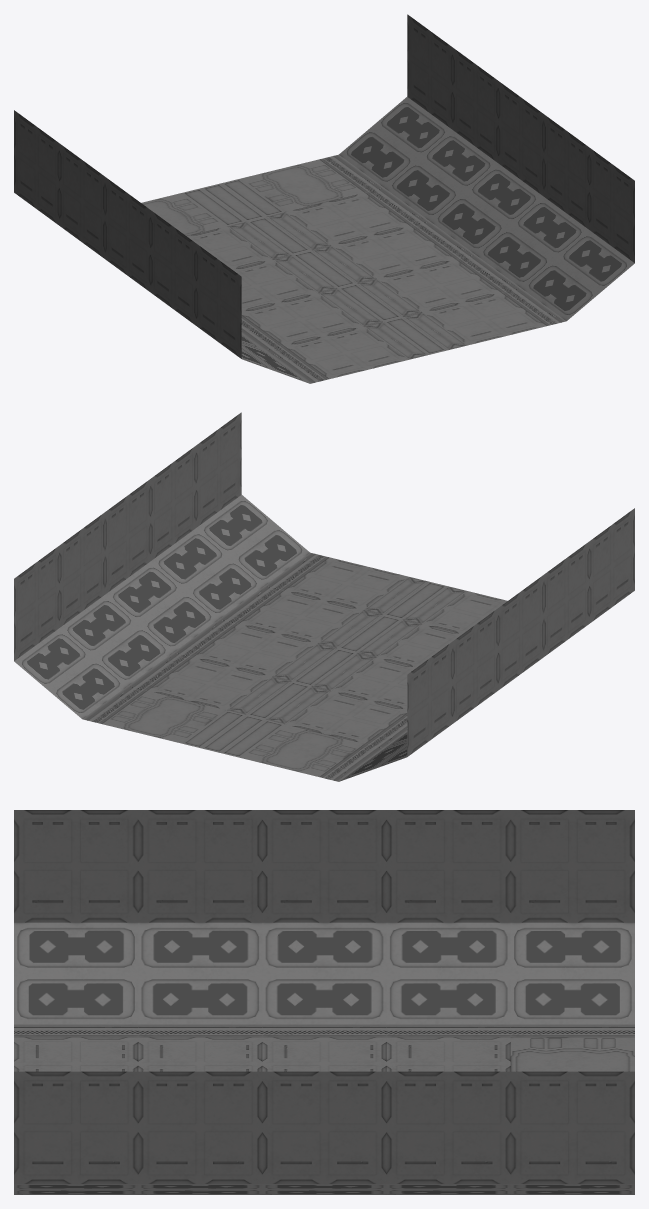
File: Sci-fi-texture_Test.fbx
The picture shows the model from 3 angles, top to bottom: view 1: azimuth 30°, elevation 25°; view 2: azimuth 150°, elevation 25°; view 3: azimuth 270°, elevation 25°; orthographic projection. The views are drawn at different scales.
Visible parts, largest first — view 1: Plane2.009, Plane2.007, Plane2.011, Plane2.006, Plane2.008, Plane4.009, Plane4.016, Plane4.017, Plane4.010, Plane4.012, Plane4.015, Plane4.018 (+36 smaller); view 2: Plane2.011, Plane2.007, Plane2.009, Plane2.006, Plane2.008, Plane4.011, Plane4.014, Plane4.017, Plane4.012, Plane4.013, Plane4.015, Plane4.018 (+36 smaller); view 3: Plane4.009, Plane4.010, Plane4.011, Plane4.012, Plane4.013, Plane4.017, Plane4.014, Plane4.015, Plane4.016, Plane4.018, Plane2.003, Plane2.002 (+18 smaller).
Part boxes in pixels (x1,y1,x2,y2): Plane2.009: (521,230,634,321); Plane2.007: (430,163,543,254); Plane2.011: (339,97,452,187); Plane2.006: (385,130,497,220); Plane2.008: (475,197,588,287); Plane4.009: (150,210,196,325); Plane4.016: (452,47,498,162); Plane4.017: (498,81,543,196); Plane4.010: (196,243,241,358); Plane4.012: (105,177,150,292); Plane4.015: (589,147,634,262); Plane4.018: (407,14,452,129); Plane2.011: (14,628,127,719); Plane2.007: (105,561,218,652); Plane2.009: (196,495,309,585); Plane2.006: (60,595,173,685); Plane2.008: (151,528,263,618); Plane4.011: (452,608,498,723); Plane4.014: (150,445,196,560); Plane4.017: (105,479,150,594); Plane4.012: (498,575,543,690); Plane4.013: (407,641,452,756); Plane4.015: (196,412,241,527); Plane4.018: (14,545,59,660); Plane4.009: (138,810,262,922); Plane4.010: (14,810,138,922); Plane4.011: (386,810,510,922); Plane4.012: (262,810,386,922); Plane4.013: (510,810,634,922); Plane4.017: (262,1071,386,1183); Plane4.014: (138,1071,262,1183); Plane4.015: (14,1071,138,1183); Plane4.016: (386,1071,510,1183); Plane4.018: (510,1071,634,1183); Plane2.003: (262,922,386,1024); Plane2.002: (386,922,510,1024).
Bounding box in the file's own units: 498 × 150 × 500.
